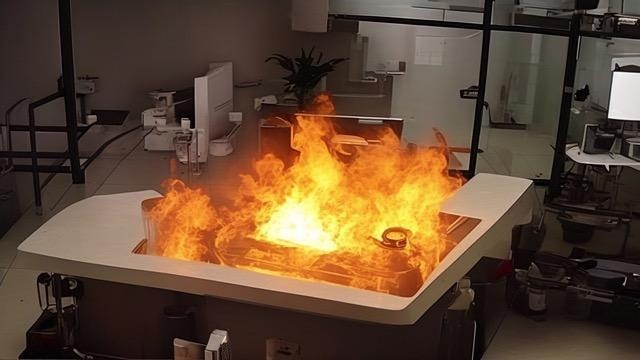fire: (147, 100, 472, 304)
